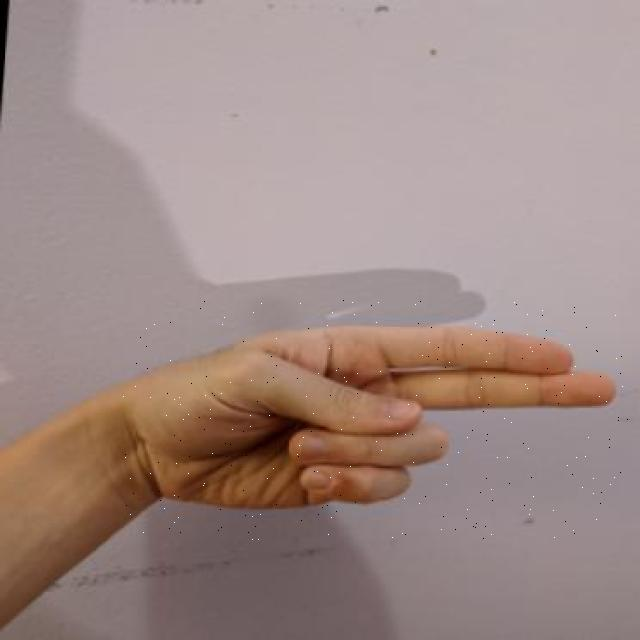H: (123, 300, 629, 540)
